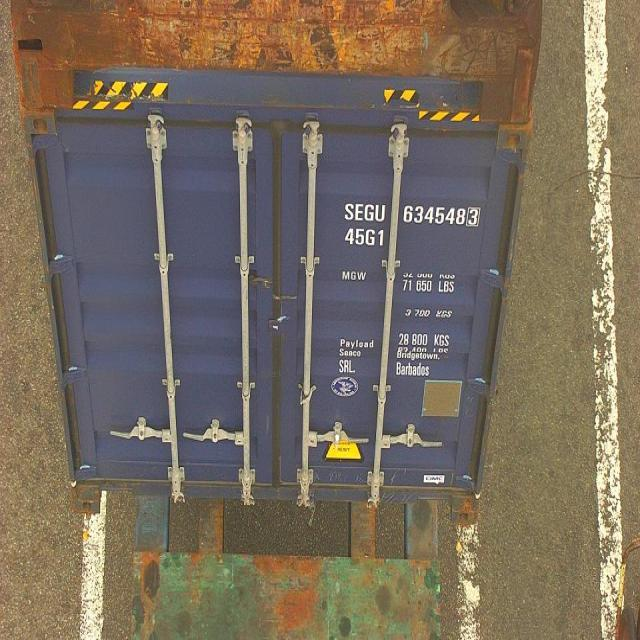ISO: (342, 222, 385, 248)
container_number: (340, 197, 480, 230)
